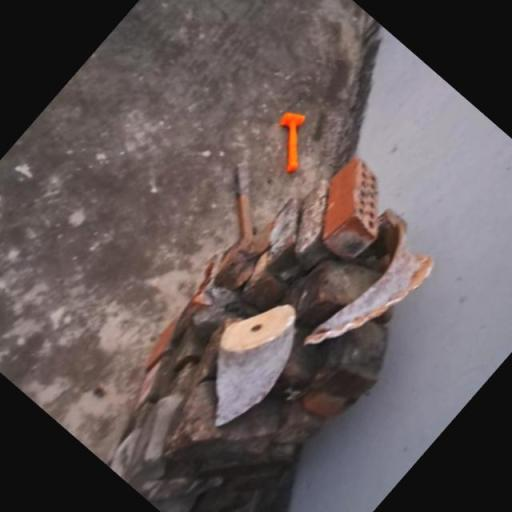mallet: (257, 104, 327, 175)
